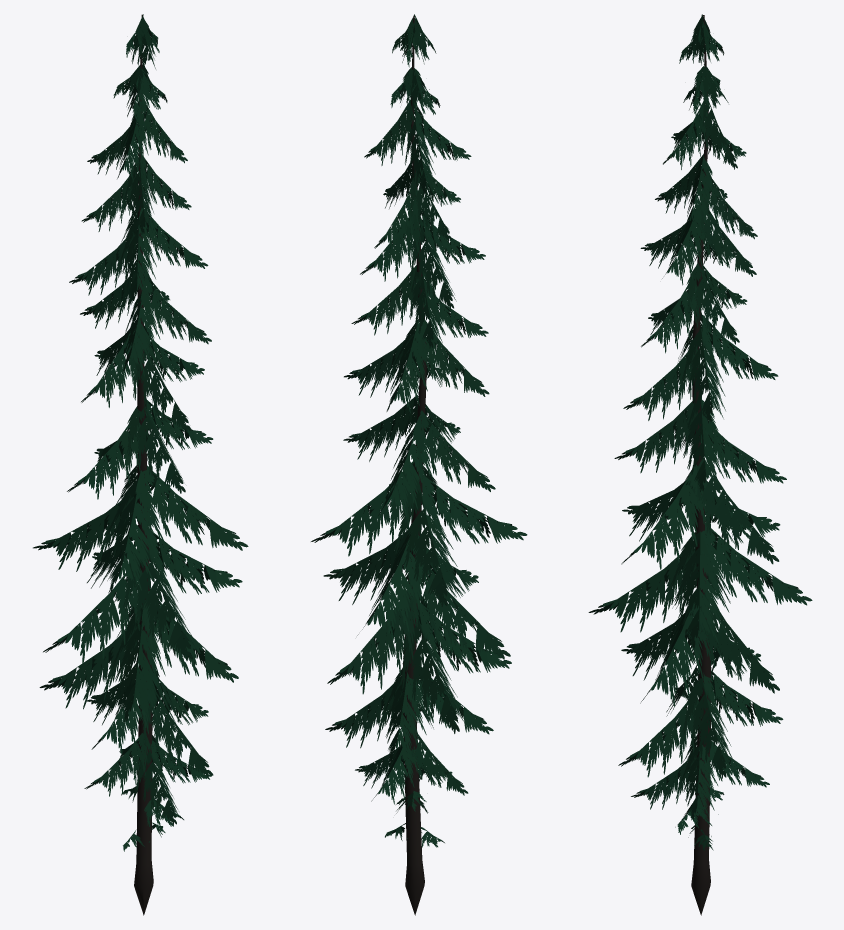
File: pine_big.glb
3 renders of one model, left to right at view 1: azimuth 30°, elevation 25°; view 2: azimuth 150°, elevation 25°; view 3: azimuth 270°, elevation 25°, orthographic.
Visible parts, largest first — view 1: Object_18, Object_17; view 2: Object_18, Object_17; view 3: Object_18, Object_17.
Part boxes in pixels (<box>): Object_18: <box>33,14,248,851</box>; Object_17: <box>134,14,153,915</box>; Object_18: <box>311,14,527,847</box>; Object_17: <box>402,15,427,915</box>; Object_18: <box>588,14,812,850</box>; Object_17: <box>691,15,711,915</box>.
Bounding box in the file's own units: 6.67 × 25.67 × 6.67.
Materials: 2 (1 with a texture image).
